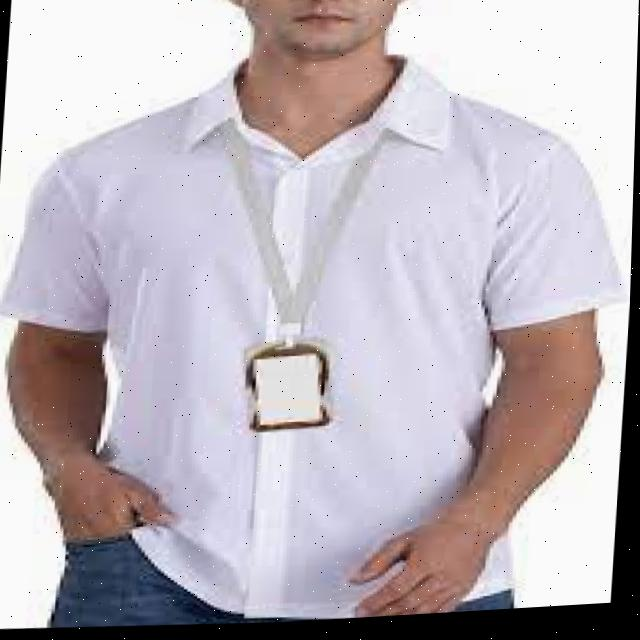id_card: (178, 119, 406, 445)
